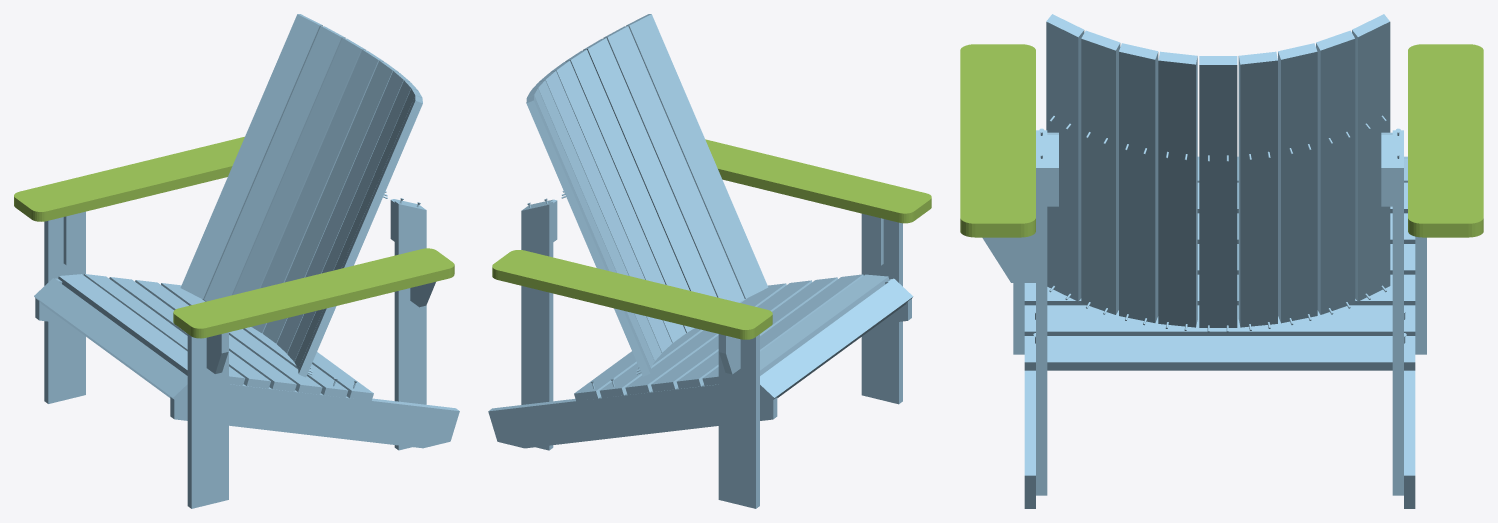
File: alzatin_Adirondack-chair.glb
3 renders of one model, left to right at view 1: azimuth 30°, elevation 25°; view 2: azimuth 150°, elevation 25°; view 3: azimuth 270°, elevation 25°, orthographic. The views are drawn at different scales.
Visible parts, largest first — view 1: part-14, part-35, part-77, part-34, part-72, part-6, part-57, part-47, part-1, part-22, part-117, part-42 (+13 smaller); view 2: part-18, part-34, part-37, part-35, part-67, part-1, part-62, part-23, part-52, part-6, part-117, part-42 (+12 smaller); view 3: part-34, part-35, part-82, part-57, part-62, part-52, part-47, part-72, part-42, part-67, part-77, part-37 (+12 smaller).
Boxes of the visible parts, x1,y1,x2,y2 form: part-14: (170,384,459,448); part-35: (173,248,454,338); part-77: (180,14,322,299); part-34: (14,136,244,221); part-72: (204,26,345,301); part-6: (187,332,228,508); part-57: (233,38,365,294); part-47: (251,49,383,333); part-1: (44,211,85,403); part-22: (394,201,426,450); part-117: (34,278,187,402); part-42: (263,60,398,343); part-18: (488,384,777,448); part-34: (492,250,772,339); part-37: (626,14,768,298); part-35: (705,139,931,223); part-67: (603,26,744,302); part-1: (718,334,759,508); part-62: (583,38,716,297); part-23: (521,202,553,450); part-52: (565,49,694,332); part-6: (861,213,902,404); part-117: (760,278,913,402); part-42: (550,60,685,342); part-34: (1408,44,1483,237); part-35: (960,44,1035,237); part-82: (1024,336,1415,370); part-57: (1278,43,1317,323); part-62: (1119,43,1158,322); part-52: (1158,51,1197,327); part-47: (1238,51,1277,327); part-72: (1316,30,1355,314); part-42: (1199,56,1237,327); part-67: (1081,30,1120,314); part-77: (1352,14,1390,301); part-37: (1046,14,1084,301).
Size of the model in its own units: 30.8 by 34.74 by 34.5.
